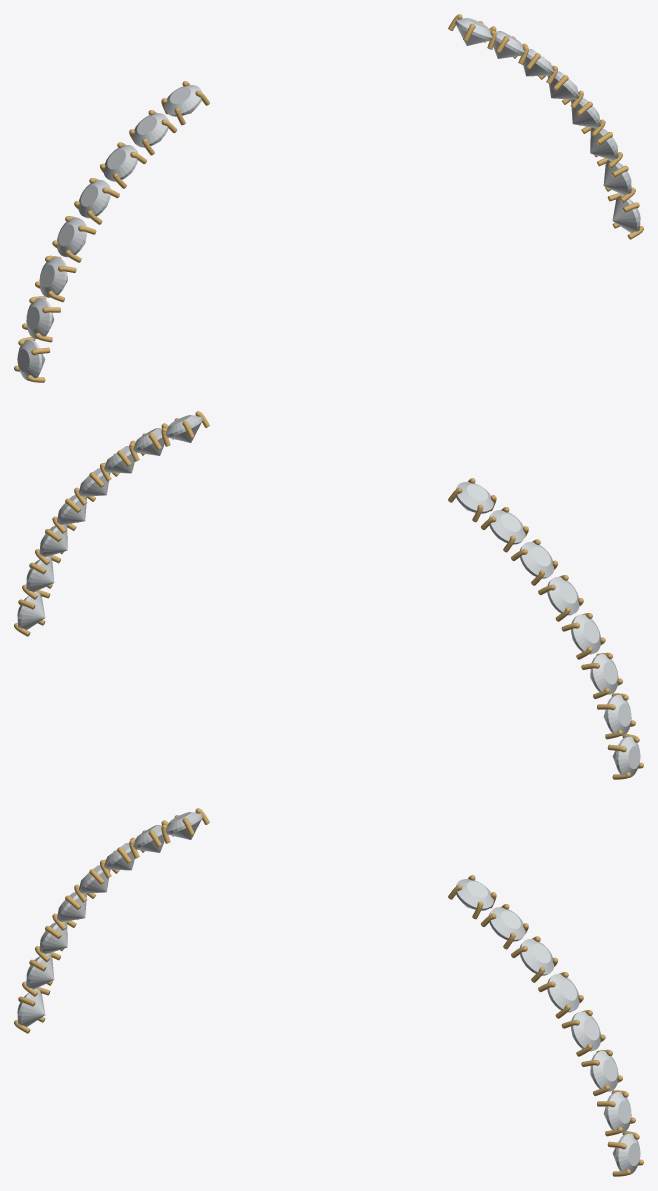
File: accents-micro-pave.glb
3 views of the same model, one above another, from view 1: azimuth 30°, elevation 25°; view 2: azimuth 150°, elevation 25°; view 3: azimuth 330°, elevation 25° (orthographic).
Visible parts, largest first — view 1: Gem.003, Gem.002, Gem.004, Gem.001, Gem.005, Gem, Gem.006, Gem.007, Gem.015, Gem.014, Gem.008, Gem.013 (+3 smaller); view 2: Gem.003, Gem.002, Gem.004, Gem.001, Gem.005, Gem, Gem.006, Gem.007, Gem.015, Gem.014, Gem.008, Gem.013 (+3 smaller); view 3: Gem.011, Gem.010, Gem.012, Gem.009, Gem.013, Gem.008, Gem.014, Gem.015, Gem.007, Gem.006, Gem, Gem.005 (+3 smaller).
Part boxes in pixels (x1,y1,x2,y2): Gem.003: (78, 180, 110, 218); Gem.002: (103, 145, 137, 181); Gem.004: (57, 217, 86, 257); Gem.001: (132, 113, 168, 147); Gem.005: (39, 257, 67, 297); Gem: (164, 85, 201, 116); Gem.006: (26, 298, 54, 338); Gem.007: (17, 339, 45, 380); Gem.015: (612, 194, 640, 232); Gem.014: (603, 159, 631, 195); Gem.008: (455, 18, 492, 45); Gem.013: (590, 127, 618, 160); Gem.003: (547, 577, 579, 615); Gem.002: (520, 542, 554, 578); Gem.004: (571, 614, 600, 654); Gem.001: (489, 510, 525, 544); Gem.005: (590, 654, 618, 694); Gem: (456, 482, 493, 513); Gem.006: (603, 695, 631, 735); Gem.007: (612, 736, 640, 777); Gem.015: (17, 591, 45, 629); Gem.014: (26, 556, 54, 592); Gem.008: (165, 415, 202, 442); Gem.013: (39, 524, 67, 557); Gem.011: (547, 974, 579, 1012); Gem.010: (520, 939, 554, 975); Gem.012: (571, 1011, 600, 1051); Gem.009: (489, 907, 525, 941); Gem.013: (590, 1051, 618, 1091); Gem.008: (456, 879, 493, 910); Gem.014: (603, 1092, 631, 1132); Gem.015: (612, 1133, 640, 1174); Gem.007: (17, 988, 45, 1026); Gem.006: (26, 953, 54, 989); Gem: (165, 812, 202, 839); Gem.005: (39, 921, 67, 954).
Size of the model in its own units: 19.68 by 7.72 by 1.15.
